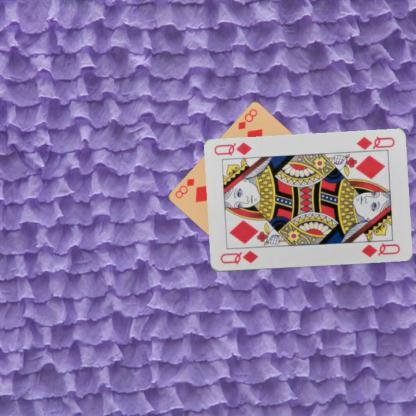8d: (235, 106, 259, 131)
Qd: (351, 134, 396, 154), (217, 248, 259, 266)
